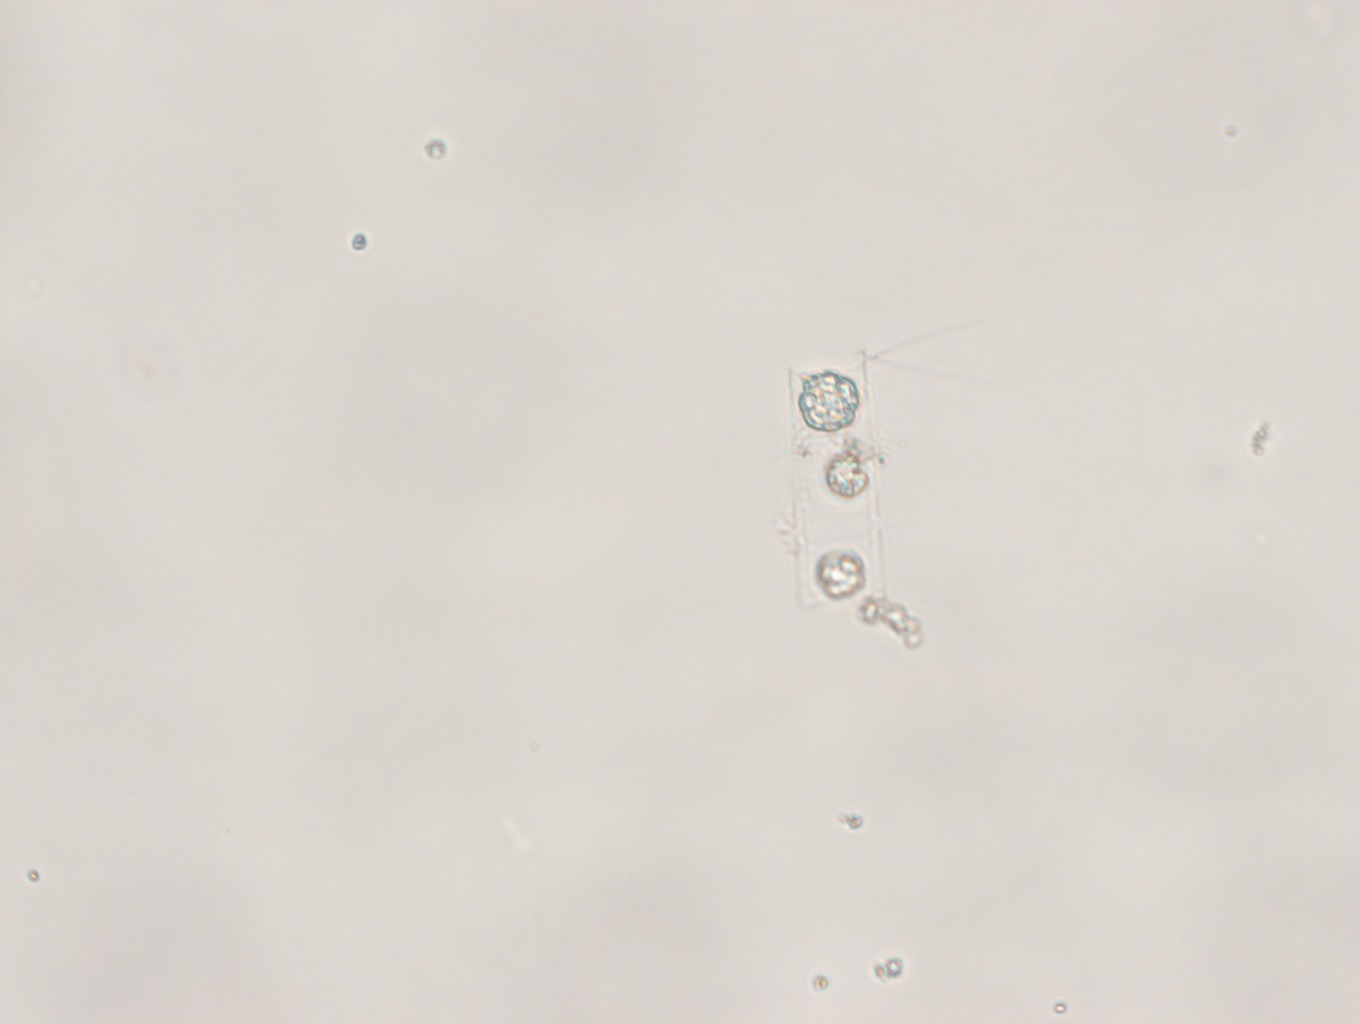chaetoceros: (724, 310, 986, 673)
